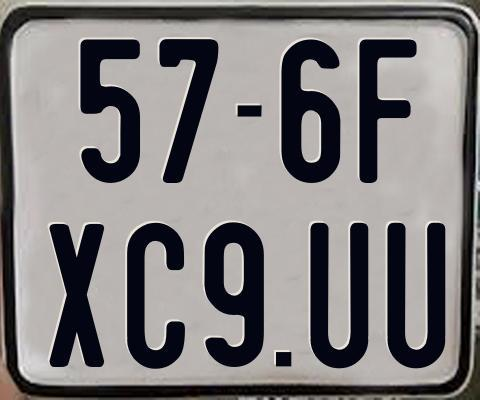5: (78, 37, 142, 187)
6: (281, 39, 344, 185)
7: (156, 38, 217, 183)
9: (204, 220, 266, 368)
C: (125, 221, 187, 368)
F: (356, 39, 418, 185)
U: (385, 220, 446, 370), (307, 223, 366, 370)
X: (46, 222, 106, 365)
